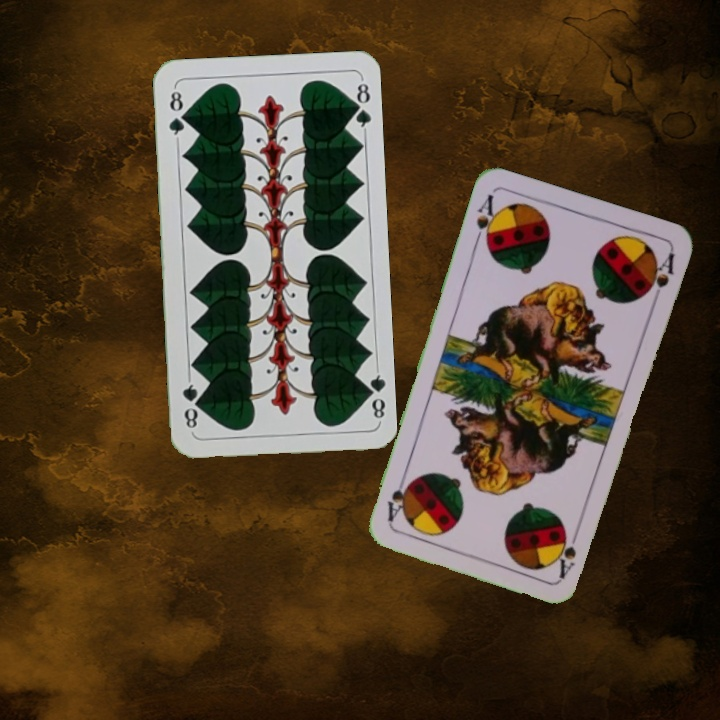G8: (360, 365, 388, 424), (164, 84, 188, 143)
SA: (470, 190, 501, 251), (555, 522, 583, 580)
